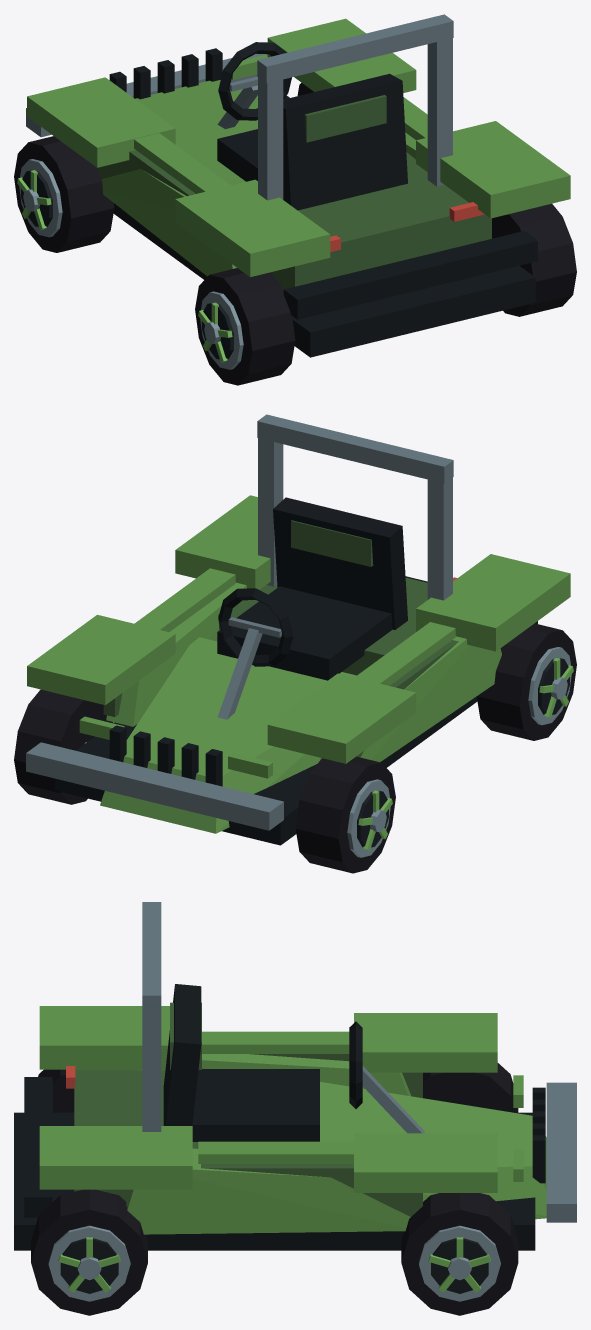
Rendered from kart.glb.
3 renders of one model, top to bottom at view 1: azimuth 30°, elevation 25°; view 2: azimuth 150°, elevation 25°; view 3: azimuth 270°, elevation 25°, orthographic. The views are drawn at different scales.
Visible parts, largest first — view 1: chassis, wheel-rear-left, wheel-front-left, wheel-rear-right; view 2: chassis, wheel-front-left, wheel-rear-left, wheel-front-right; view 3: chassis, wheel-rear-right, wheel-front-right, wheel-front-left, wheel-rear-left.
Boxes of the visible parts, bbox=[...] form: chassis: bbox=[26, 14, 570, 357]; wheel-rear-left: bbox=[195, 268, 295, 385]; wheel-front-left: bbox=[14, 136, 114, 252]; wheel-rear-right: bbox=[492, 203, 576, 316]; chassis: bbox=[26, 414, 570, 845]; wheel-front-left: bbox=[295, 756, 395, 873]; wheel-rear-left: bbox=[476, 623, 576, 740]; wheel-front-right: bbox=[14, 689, 113, 804]; chassis: bbox=[14, 902, 576, 1250]; wheel-rear-right: bbox=[31, 1189, 147, 1315]; wheel-front-right: bbox=[401, 1193, 518, 1315]; wheel-front-left: bbox=[423, 1063, 518, 1112]; wheel-rear-left: bbox=[38, 1069, 74, 1112].
Size of the model in its own units: 2.2 by 1.67 by 2.98.
